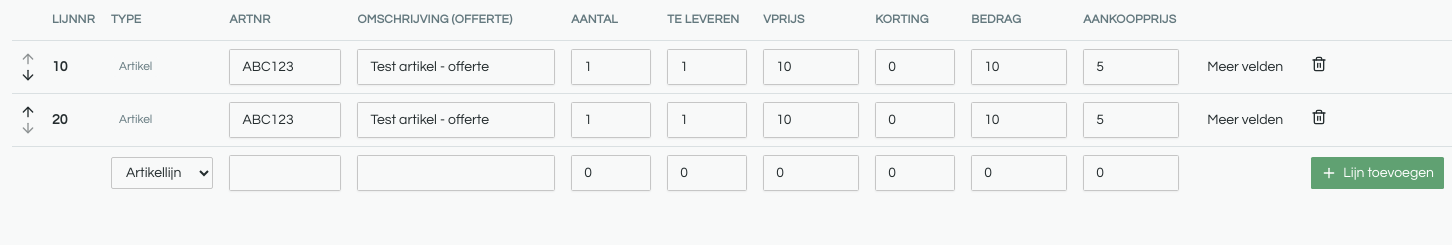
it: OfferteLijnenEditor - persisted mode › shows a readable error and leaves the list untouched when the reorder guard rejects
Click the button named "Omhoog" next to "20": [28, 112] box [20, 104, 36, 120]
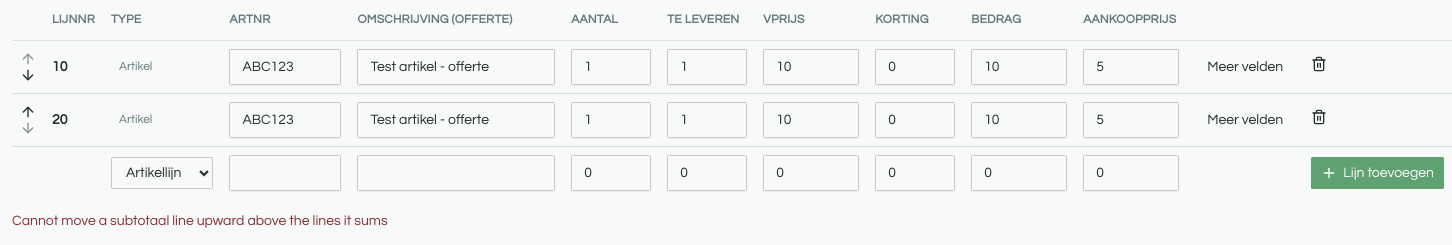
Check: the text "Cannot move a subtotaal line upward above the lines it sums" is shown, box [12, 214, 388, 228]
